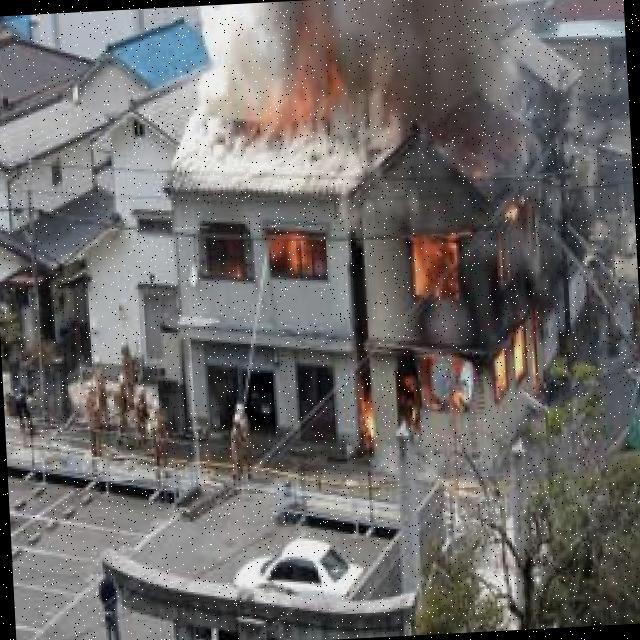Fire: (343, 196, 561, 442), (230, 32, 345, 138), (218, 230, 329, 283)
